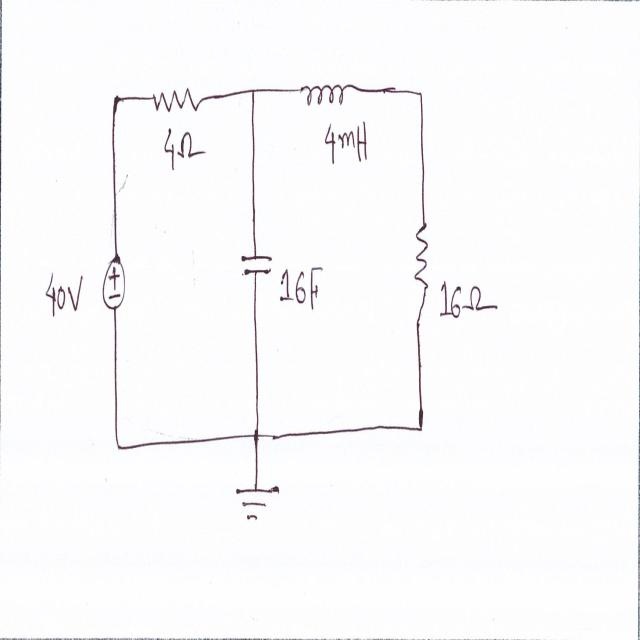capacitor: (238, 243, 274, 283)
ground: (232, 478, 284, 530)
inductor: (298, 80, 357, 110)
resistor: (151, 78, 201, 123), (414, 223, 434, 321)
voltage_source: (102, 249, 130, 313)
